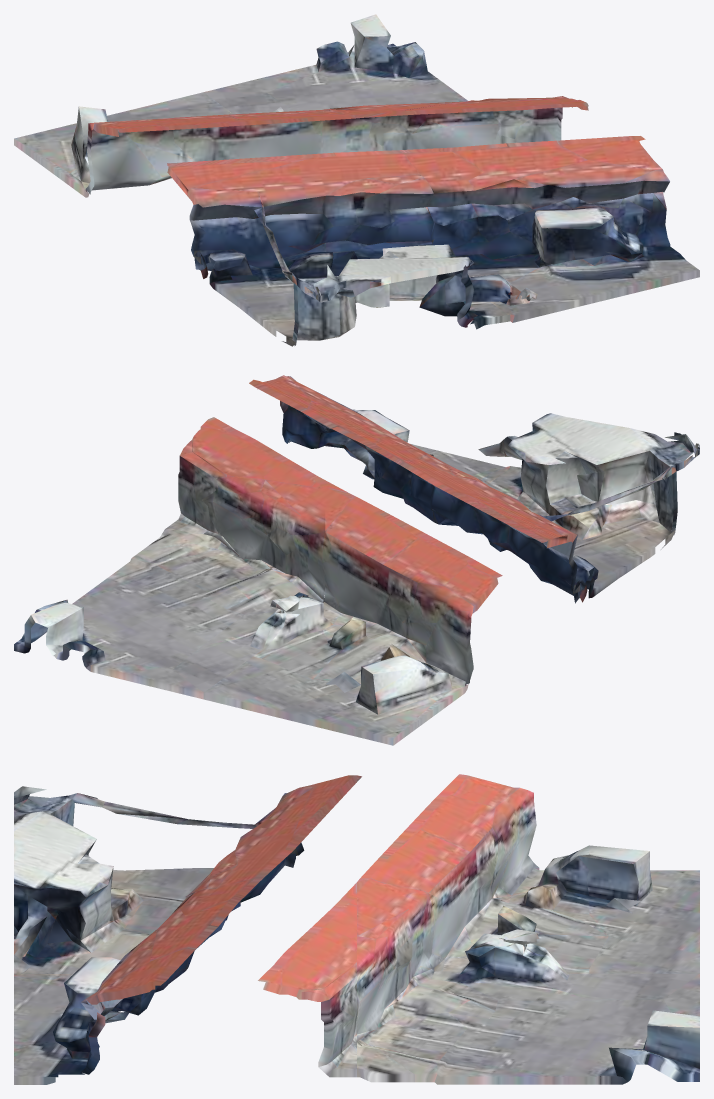
The picture shows the model from 3 angles, top to bottom: view 1: azimuth 30°, elevation 25°; view 2: azimuth 150°, elevation 25°; view 3: azimuth 270°, elevation 25°; orthographic projection. The views are drawn at different scales.
Visible parts, largest first — view 1: 30436272704370616622_0; view 2: 30436272704370616622_0; view 3: 30436272704370616622_0.
Boxes of the visible parts, x1=… form: 30436272704370616622_0: x1=14, y1=14, x2=699, y2=346; 30436272704370616622_0: x1=14, y1=375, x2=699, y2=745; 30436272704370616622_0: x1=14, y1=774, x2=699, y2=1084.
Bounding box in the file's own units: 27.92 × 6.33 × 38.26.
Materials: 1 (1 with a texture image).
